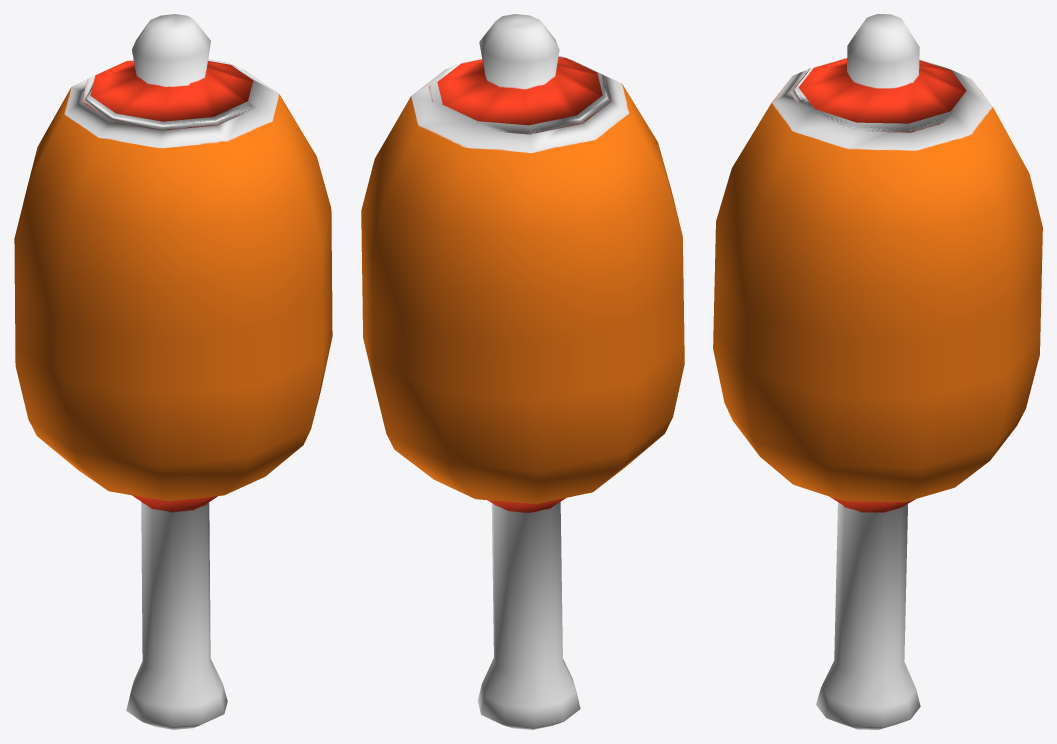
Rendered from B Meat.fbx.
3 renders of one model, left to right at view 1: azimuth 30°, elevation 25°; view 2: azimuth 150°, elevation 25°; view 3: azimuth 270°, elevation 25°, orthographic.
Visible parts, largest first — view 1: B Meat; view 2: B Meat; view 3: B Meat.
Boxes of the visible parts, bbox=[...] form: B Meat: bbox=[14, 14, 332, 729]; B Meat: bbox=[361, 14, 684, 729]; B Meat: bbox=[713, 14, 1042, 729].
Size of the model in its own units: 48.58 by 120 by 51.43.
